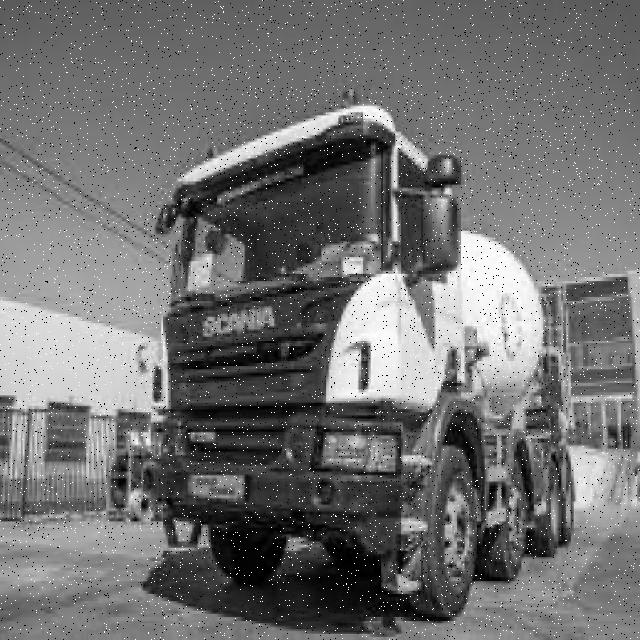Concrete Mixer: (141, 86, 575, 622)
